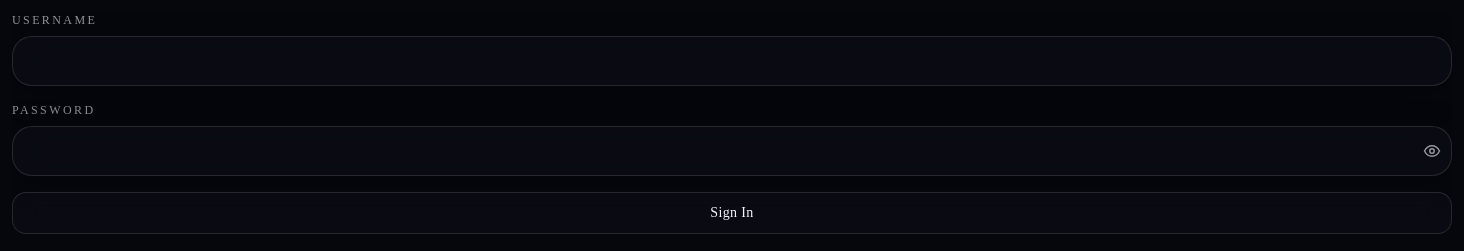
PasswordForm › masks the password with * and reveals it via the eye button
Type "secret" into the field labelled "Password" at (732, 151), box x1=12 y1=126 x2=1452 y2=176
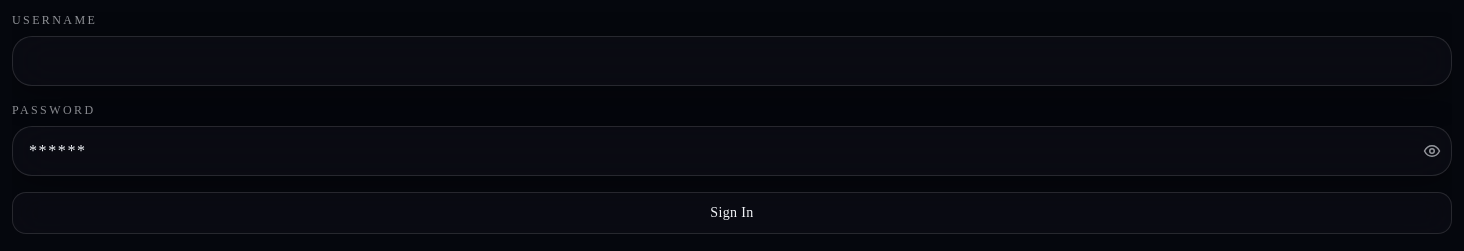
Expected: the field labelled "Password" holds "******", x1=12 y1=126 x2=1452 y2=176
Click the button named "show password" at (1432, 151), box x1=1412 y1=126 x2=1452 y2=176
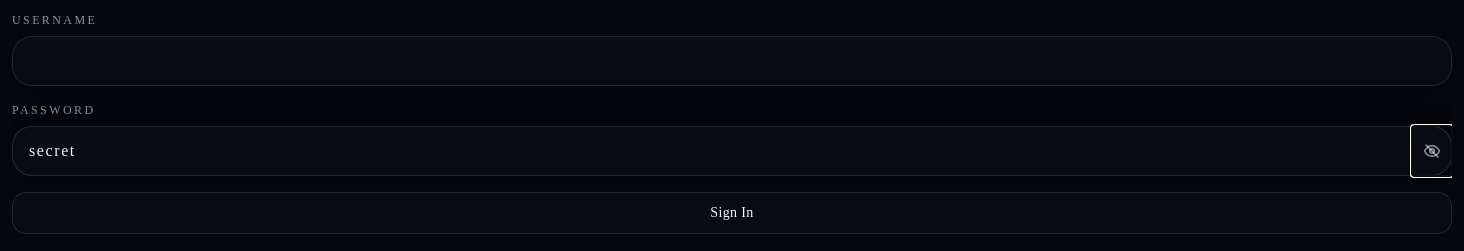
Click the button named "hide password" at (1432, 151), box x1=1412 y1=126 x2=1452 y2=176
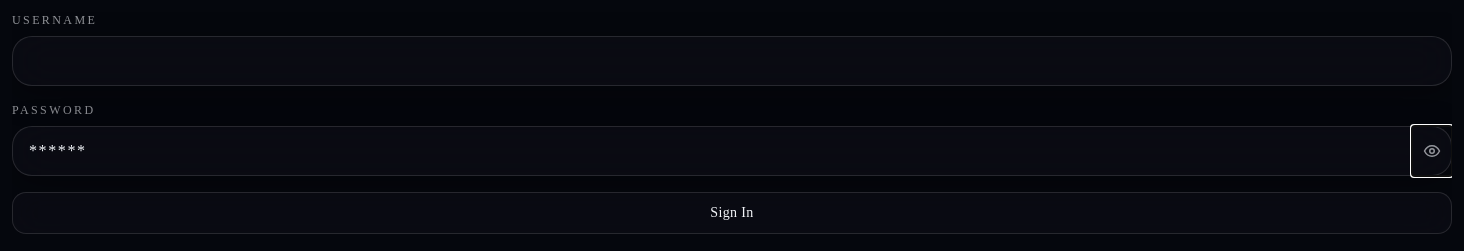
Expected: the field labelled "Password" holds "******", x1=12 y1=126 x2=1452 y2=176
